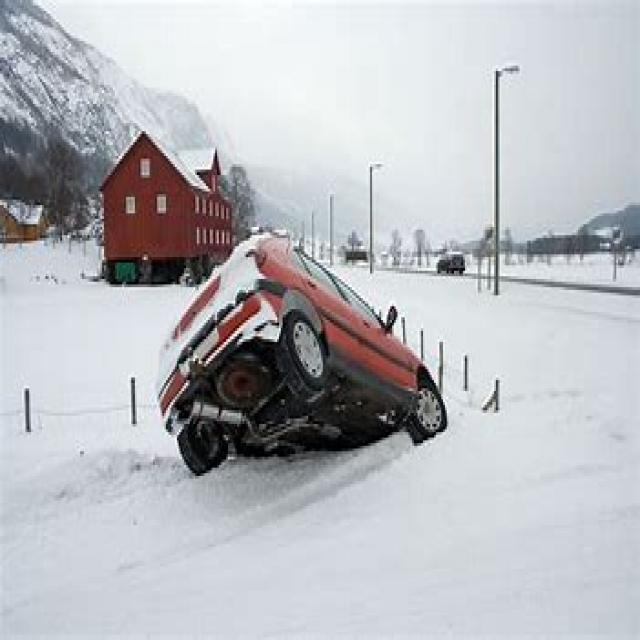Accident: (132, 161, 426, 473)
